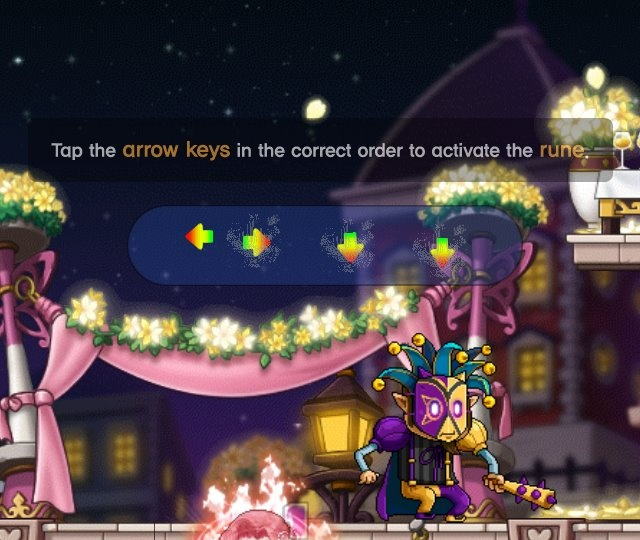down: (328, 224, 370, 271), (423, 230, 461, 277)
left: (180, 217, 221, 257)
right: (237, 225, 275, 262)
